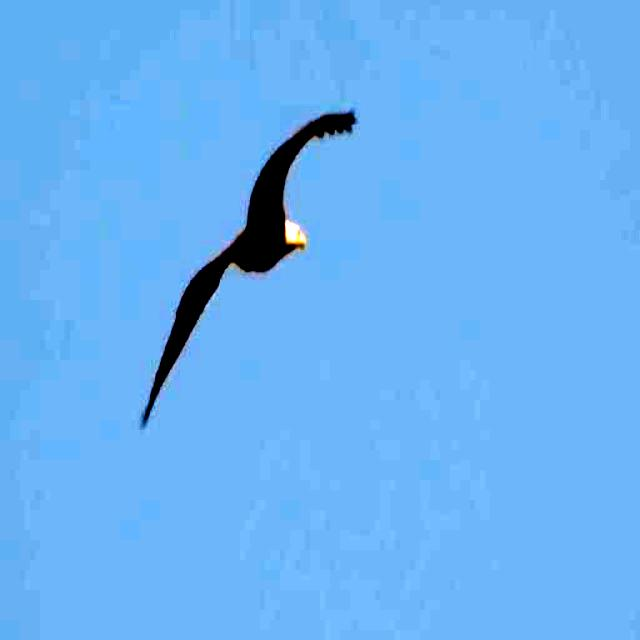airplane: (134, 92, 364, 444)
